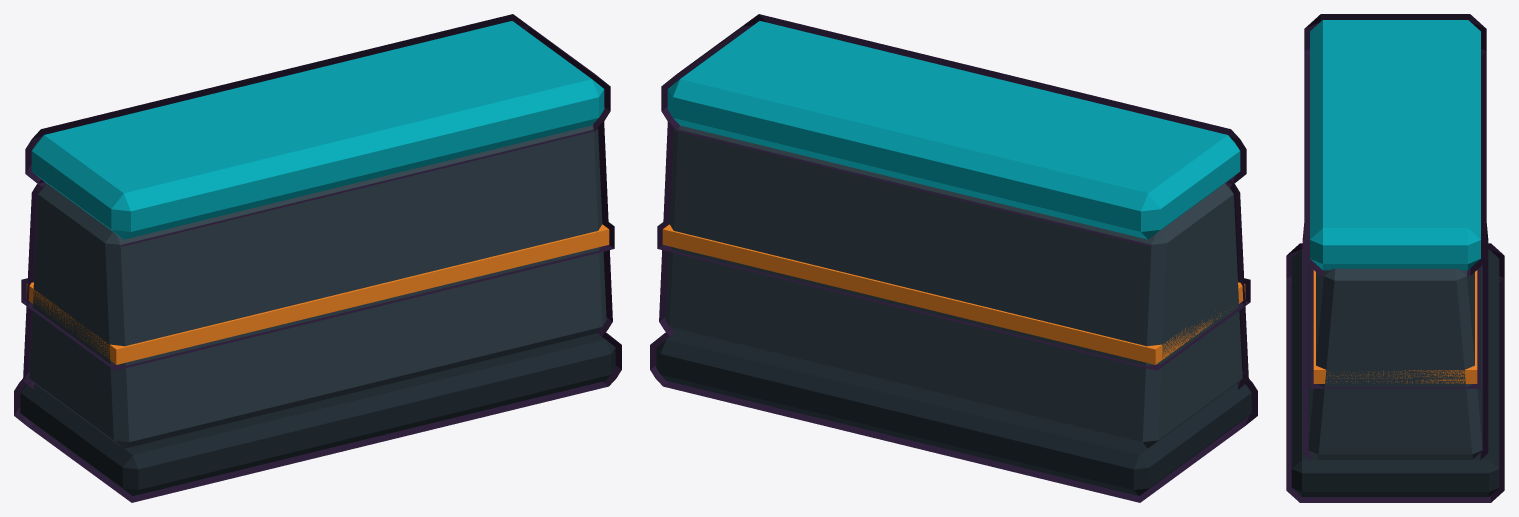
Rendered from Wall.glb.
3 views of the same model, side by side, from view 1: azimuth 30°, elevation 25°; view 2: azimuth 150°, elevation 25°; view 3: azimuth 270°, elevation 25° (orthographic). The views are drawn at different scales.
Visible parts, largest first — view 1: Wall_GAME_Base; view 2: Wall_GAME_Base; view 3: Wall_GAME_Base.
Boxes of the visible parts, x1,y1,x2,y2 form: Wall_GAME_Base: [14, 14, 621, 502]; Wall_GAME_Base: [650, 14, 1257, 502]; Wall_GAME_Base: [1286, 14, 1504, 502].
Bounding box in the file's own units: 2.04 × 1.18 × 0.842.
